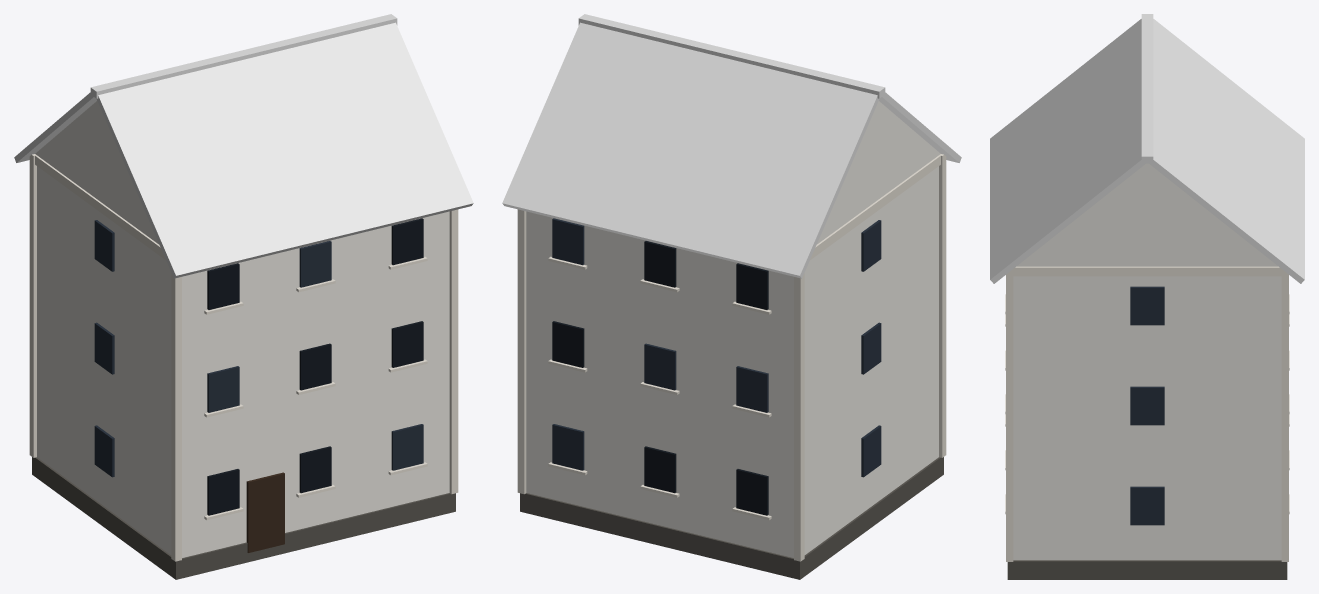
Rendered from house_tall.glb.
3 renders of one model, left to right at view 1: azimuth 30°, elevation 25°; view 2: azimuth 150°, elevation 25°; view 3: azimuth 270°, elevation 25°, orthographic. The views are drawn at different scales.
Parts seen in each view (by area): view 1: Walls, Roof, Windows, Trim, Plinth, Gables, Door; view 2: Walls, Roof, Windows, Trim, Plinth, Gables; view 3: Walls, Roof, Gables, Trim, Plinth, Windows.
Part boxes in pixels (box(x1,y1,x2,y2)): Walls: box(37, 166, 449, 557); Roof: box(14, 14, 473, 278); Windows: box(94, 218, 423, 515); Trim: box(29, 154, 458, 561); Plinth: box(32, 457, 455, 579); Gables: box(35, 101, 158, 244); Door: box(246, 472, 284, 552); Walls: box(526, 166, 938, 557); Roof: box(502, 14, 961, 278); Windows: box(552, 218, 881, 515); Trim: box(517, 154, 946, 561); Plinth: box(520, 457, 943, 579); Gables: box(817, 101, 940, 244); Walls: box(1013, 276, 1281, 560); Roof: box(990, 14, 1304, 283); Gables: box(1016, 163, 1278, 266); Trim: box(1005, 266, 1289, 561); Plinth: box(1007, 560, 1287, 579); Windows: box(1130, 286, 1164, 525).
Bounding box in the file's own units: 9.8 × 13.71 × 9.14.
